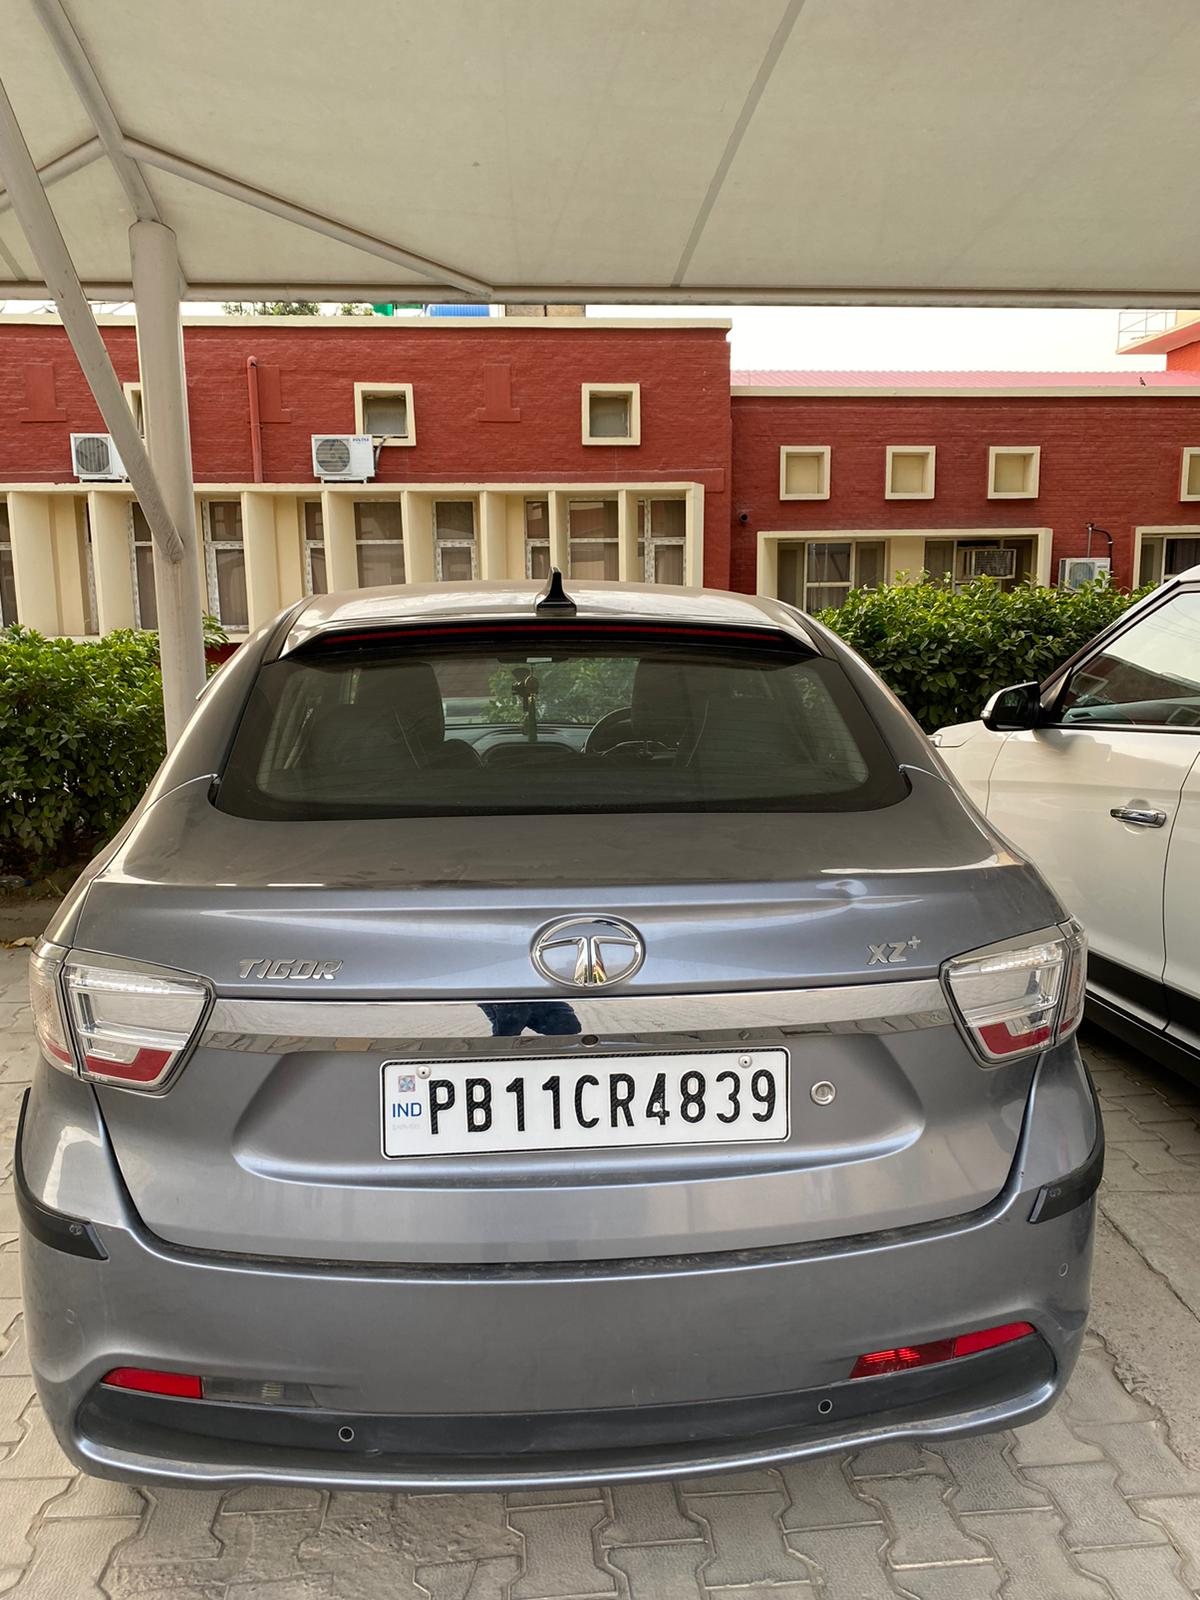license plate: (382, 1048, 788, 1156)
